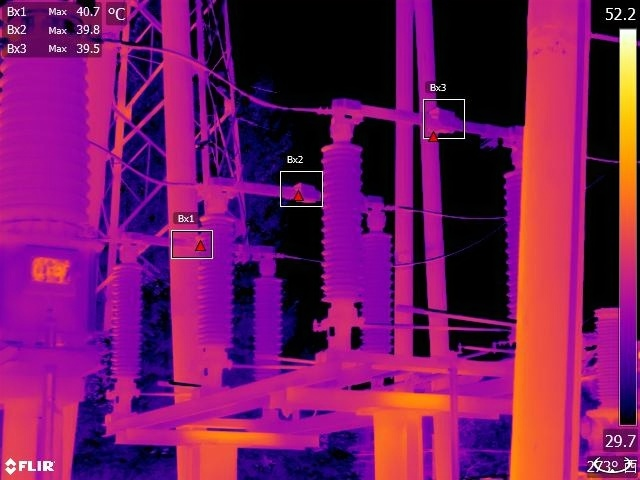current transformer: (1, 1, 115, 348)
post insulator: (317, 140, 369, 302), (190, 210, 241, 352), (106, 263, 152, 383), (358, 228, 400, 353), (503, 170, 526, 327), (252, 275, 286, 381)
switch: (326, 94, 531, 173), (192, 173, 383, 233), (120, 228, 280, 279)
